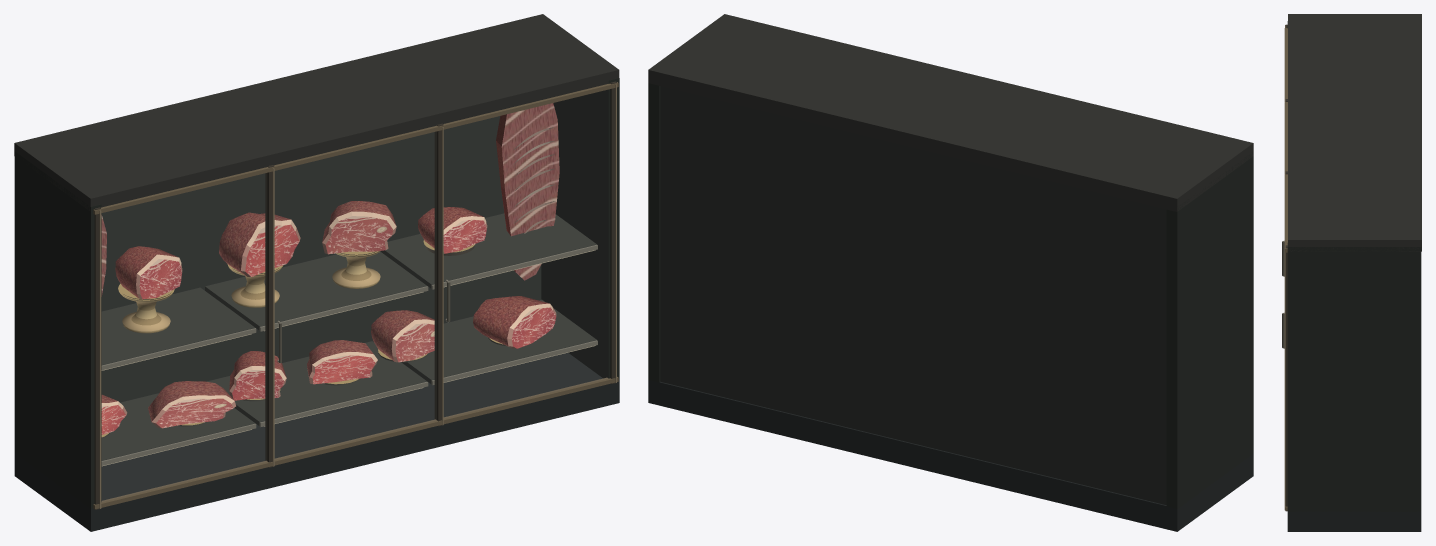
Rendered from counter.glb.
3 views of the same model, side by side, from view 1: azimuth 30°, elevation 25°; view 2: azimuth 150°, elevation 25°; view 3: azimuth 270°, elevation 25° (orthographic). The views are drawn at different scales.
Parts seen in each view (by area): view 1: AgingCabinet; view 2: AgingCabinet; view 3: AgingCabinet.
Part boxes in pixels (bbox=[...]): AgingCabinet: bbox=[14, 14, 619, 531]; AgingCabinet: bbox=[648, 14, 1253, 531]; AgingCabinet: bbox=[1282, 14, 1421, 531].
Size of the model in its own units: 4.4 by 2.65 by 1.15.
Materials: 2 (1 with a texture image).
